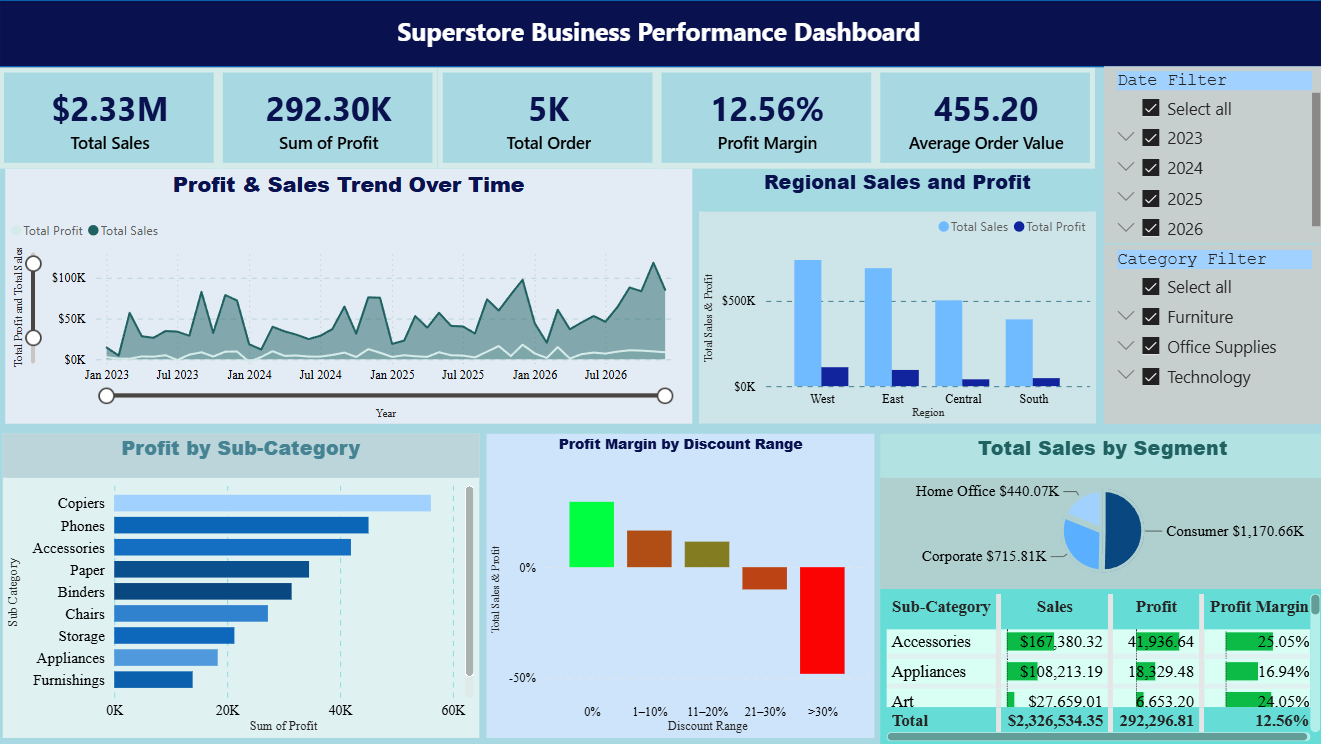

The dashboard page shown, as its layout file describes it:
{"tool":"powerbi","page":{"name":"Page 1","canvas":[1280,720],"ordinal":0},"visuals":[{"type":"tableEx","fields":{"Values":["superstore_cleaned.Sub-Category","Sum(superstore_cleaned.Sales)","Sum(superstore_cleaned.Profit)","superstore_cleaned.Profit Margin"]},"box":[851.1,568.6,429.5,152.3],"z":0},{"type":"barChart","title":"Profit by Sub-Category","fields":{"Category":["superstore_cleaned.Sub-Category"],"Y":["Sum(superstore_cleaned.Profit)"]},"box":[4.1,418.5,459.7,293.7],"z":1000},{"type":"areaChart","title":"Profit & Sales Trend Over Time","fields":{"Y":["Sum(superstore_cleaned.Profit)","Sum(superstore_cleaned.Sales)"],"Category":["superstore_cleaned.Order Date.Variation.Date Hierarchy.Year","superstore_cleaned.Order Date.Variation.Date Hierarchy.Quarter","superstore_cleaned.Order Date.Variation.Date Hierarchy.Month"]},"box":[5.5,163.3,662.8,245.6],"z":2000},{"type":"clusteredColumnChart","title":"Regional Sales and Profit","fields":{"Category":["superstore_cleaned.Region"],"Y":["Sum(superstore_cleaned.Sales)","Sum(superstore_cleaned.Profit)"]},"box":[675.1,161.9,382.8,247],"z":3000},{"type":"pieChart","title":"Total Sales by Segment","fields":{"Category":["superstore_cleaned.Segment"],"Y":["Sum(superstore_cleaned.Sales)"]},"box":[850.8,418.5,429.5,149.6],"z":4000},{"type":"cardVisual","fields":{"Data":["Sum(superstore_cleaned.Sales)"]},"box":[0,64.8,212,97.8],"z":5000},{"type":"cardVisual","fields":{"Data":["Sum(superstore_cleaned.Profit)"]},"box":[211.6,64.8,212,97.8],"z":6000},{"type":"cardVisual","fields":{"Data":["superstore_cleaned.Total Order"]},"box":[423.1,64.8,212,97.8],"z":7000},{"type":"cardVisual","fields":{"Data":["superstore_cleaned.Average Order Value"]},"box":[846.2,64.8,212,97.8],"z":8000},{"type":"cardVisual","fields":{"Data":["superstore_cleaned.Profit Margin"]},"box":[634.7,64.8,212,97.8],"z":9000},{"type":"columnChart","fields":{"Category":["superstore_cleaned.Discount Range"],"Y":["superstore_cleaned.Profit Margin"]},"box":[470.7,418.5,374.6,293.7],"z":10000},{"type":"shape","box":[0,0,1280.3,64.8],"z":11000},{"type":"textbox","box":[0,9.8,1280.3,42.8],"z":12000},{"type":"slicer","fields":{"Values":["superstore_cleaned.Order Date.Variation.Date Hierarchy.Year","superstore_cleaned.Order Date.Variation.Date Hierarchy.Quarter","superstore_cleaned.Order Date.Variation.Date Hierarchy.Month"]},"box":[1066.2,64.5,214.1,171.5],"z":13000},{"type":"slicer","fields":{"Values":["superstore_cleaned.Category","superstore_cleaned.Sub-Category"]},"box":[1066.2,236,214.1,172.9],"z":14000}]}

Visuals, with their boxes in screenshot pixels (x1, y1, x2, y2), scaled from the page's 1280x720 canvas onto the 1321x744 screenshot:
tableEx - superstore_cleaned.Sub-Category x Sum(superstore_cleaned.Sales): x1=878, y1=588, x2=1320, y2=743
"Profit by Sub-Category" barChart: x1=4, y1=432, x2=479, y2=736
"Profit & Sales Trend Over Time" areaChart: x1=6, y1=169, x2=690, y2=423
"Regional Sales and Profit" clusteredColumnChart: x1=697, y1=167, x2=1092, y2=423
"Total Sales by Segment" pieChart: x1=878, y1=432, x2=1320, y2=587
cardVisual - Sum(superstore_cleaned.Sales): x1=0, y1=67, x2=219, y2=168
cardVisual - Sum(superstore_cleaned.Profit): x1=218, y1=67, x2=437, y2=168
cardVisual - superstore_cleaned.Total Order: x1=437, y1=67, x2=655, y2=168
cardVisual - superstore_cleaned.Average Order Value: x1=873, y1=67, x2=1092, y2=168
cardVisual - superstore_cleaned.Profit Margin: x1=655, y1=67, x2=874, y2=168
columnChart - superstore_cleaned.Discount Range x superstore_cleaned.Profit Margin: x1=486, y1=432, x2=872, y2=736
shape: x1=0, y1=0, x2=1320, y2=67
textbox: x1=0, y1=10, x2=1320, y2=54
slicer - superstore_cleaned.Order Date.Variation.Date Hierarchy.Year x superstore_cleaned.Order Date.Variation.Date Hierarchy.Quarter: x1=1100, y1=67, x2=1320, y2=244
slicer - superstore_cleaned.Category x superstore_cleaned.Sub-Category: x1=1100, y1=244, x2=1320, y2=423
